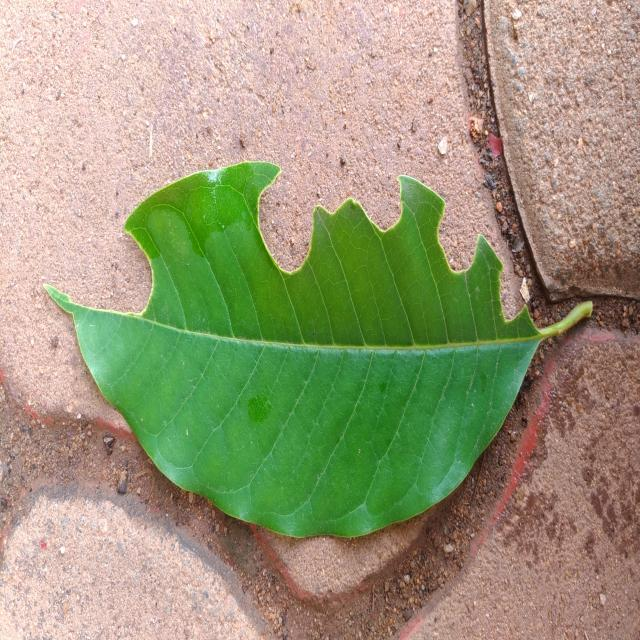coffee: (49, 162, 540, 538)
